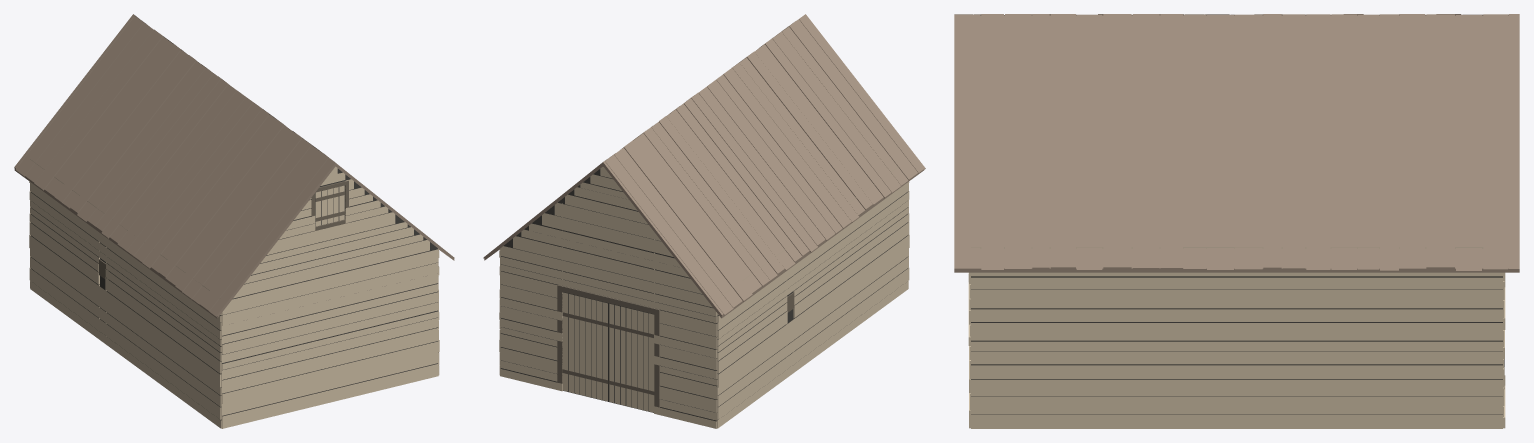
Rendered from recon_1835_blk_washington_clark_a2_04__inferred_1835.glb.
The picture shows the model from 3 angles, left to right: view 1: azimuth 30°, elevation 25°; view 2: azimuth 150°, elevation 25°; view 3: azimuth 270°, elevation 25°; orthographic projection. The views are drawn at different scales.
Visible parts, largest first — view 1: recon_1835_blk_washington_clark_a2_04__inferred_1835; view 2: recon_1835_blk_washington_clark_a2_04__inferred_1835; view 3: recon_1835_blk_washington_clark_a2_04__inferred_1835.
Boxes of the visible parts, box(x1,y1,x2,y2) form: recon_1835_blk_washington_clark_a2_04__inferred_1835: box(14, 14, 454, 428); recon_1835_blk_washington_clark_a2_04__inferred_1835: box(483, 14, 925, 428); recon_1835_blk_washington_clark_a2_04__inferred_1835: box(954, 14, 1519, 428).
Size of the model in its own units: 7.58 by 7.37 by 11.09.
